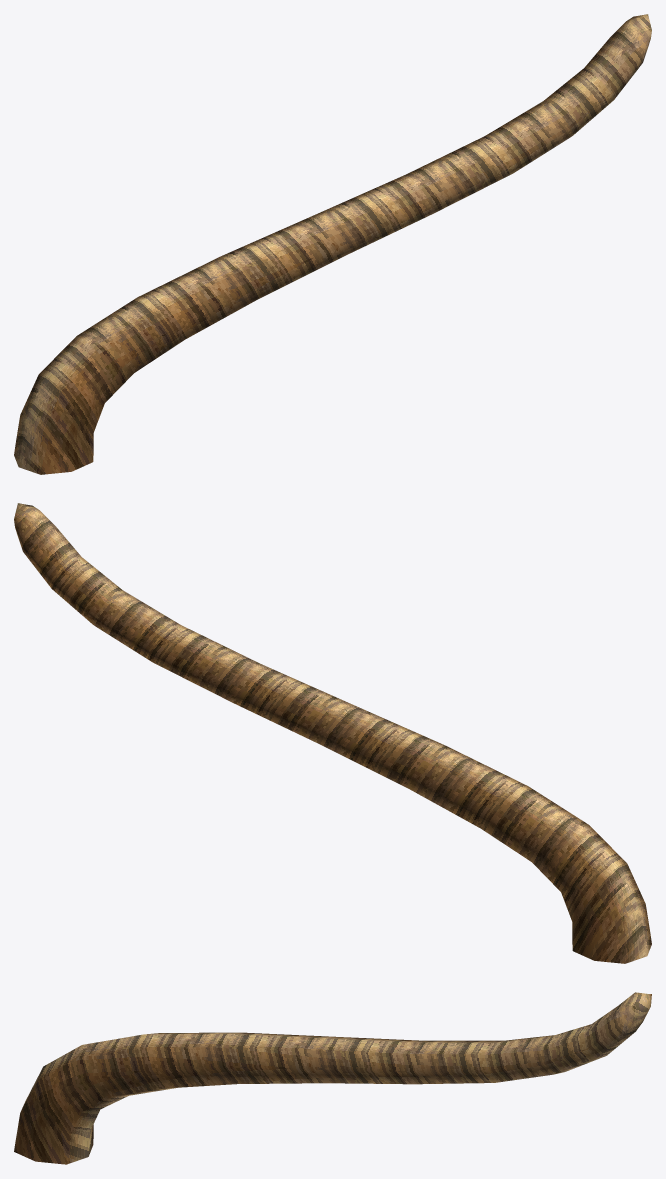
File: treeE.fbx
3 views of the same model, one above another, from view 1: azimuth 30°, elevation 25°; view 2: azimuth 150°, elevation 25°; view 3: azimuth 330°, elevation 25° (orthographic).
Parts seen in each view (by area): view 1: mesh-9.001; view 2: mesh-9.001; view 3: mesh-9.001.
Boxes of the visible parts, x1,y1,x2,y2 form: mesh-9.001: [14, 14, 651, 474]; mesh-9.001: [14, 503, 651, 963]; mesh-9.001: [14, 992, 651, 1164].
Size of the model in its own units: 953 by 432 by 94.01.
